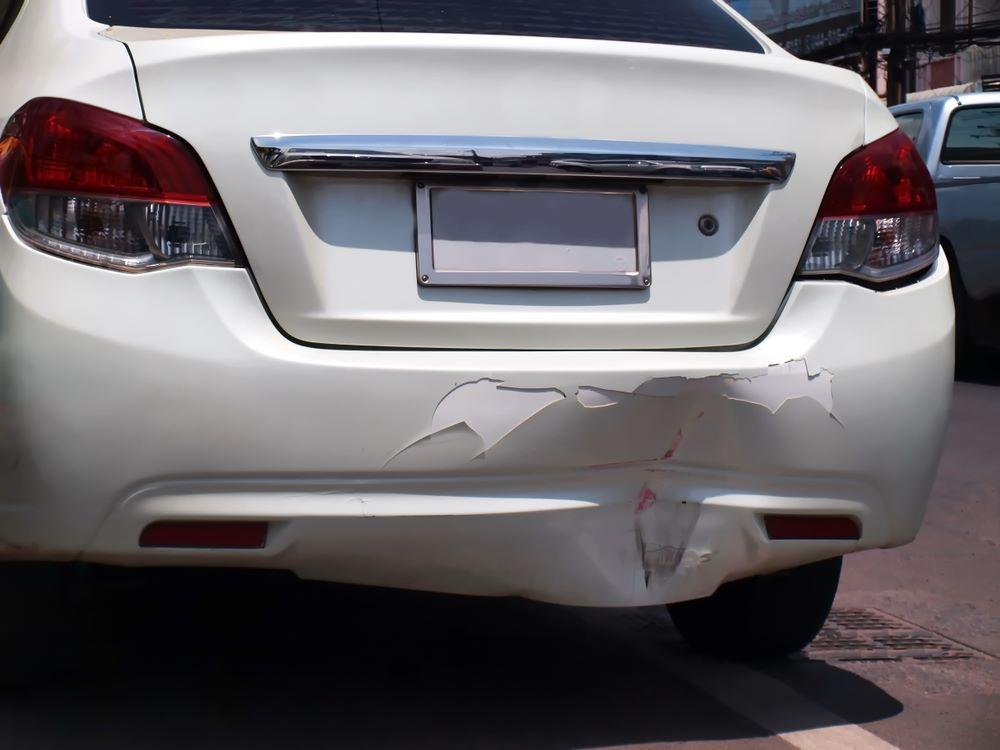dent: (578, 379, 756, 599)
